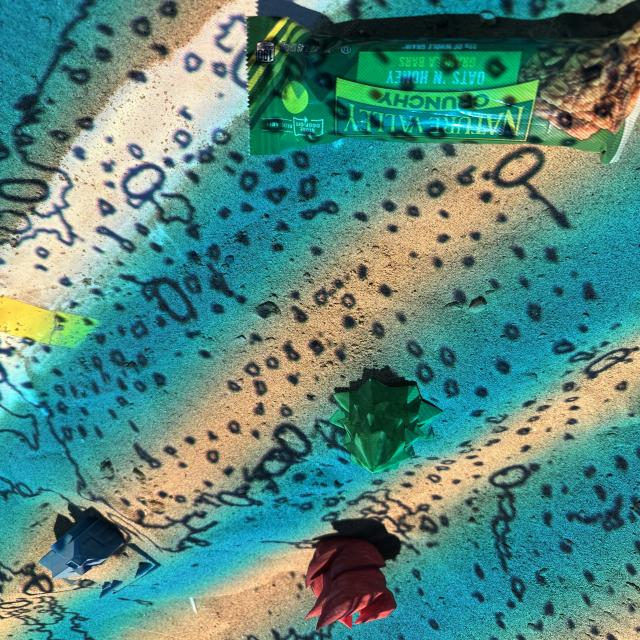fire: (305, 533, 394, 633)
house: (38, 504, 130, 580)
tree: (326, 379, 441, 470)
